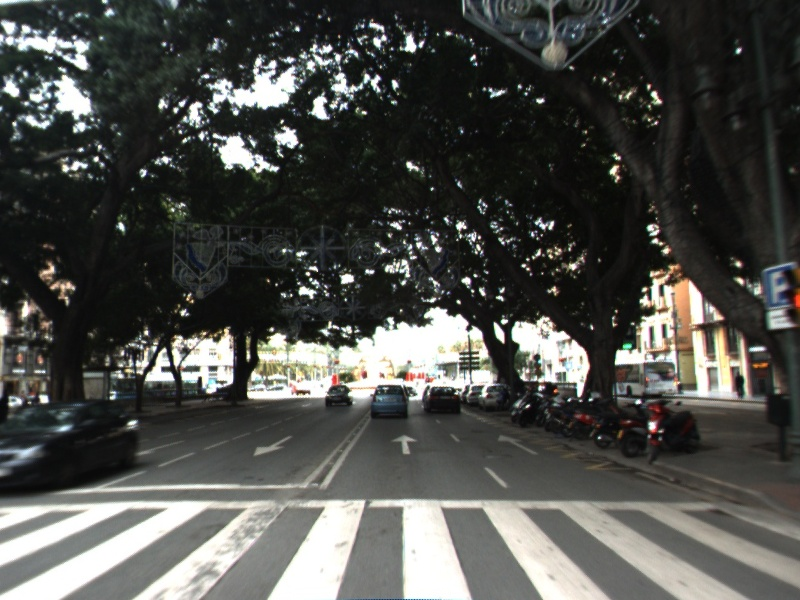STRAIGHT: (495, 432, 541, 457), (389, 432, 420, 457)
